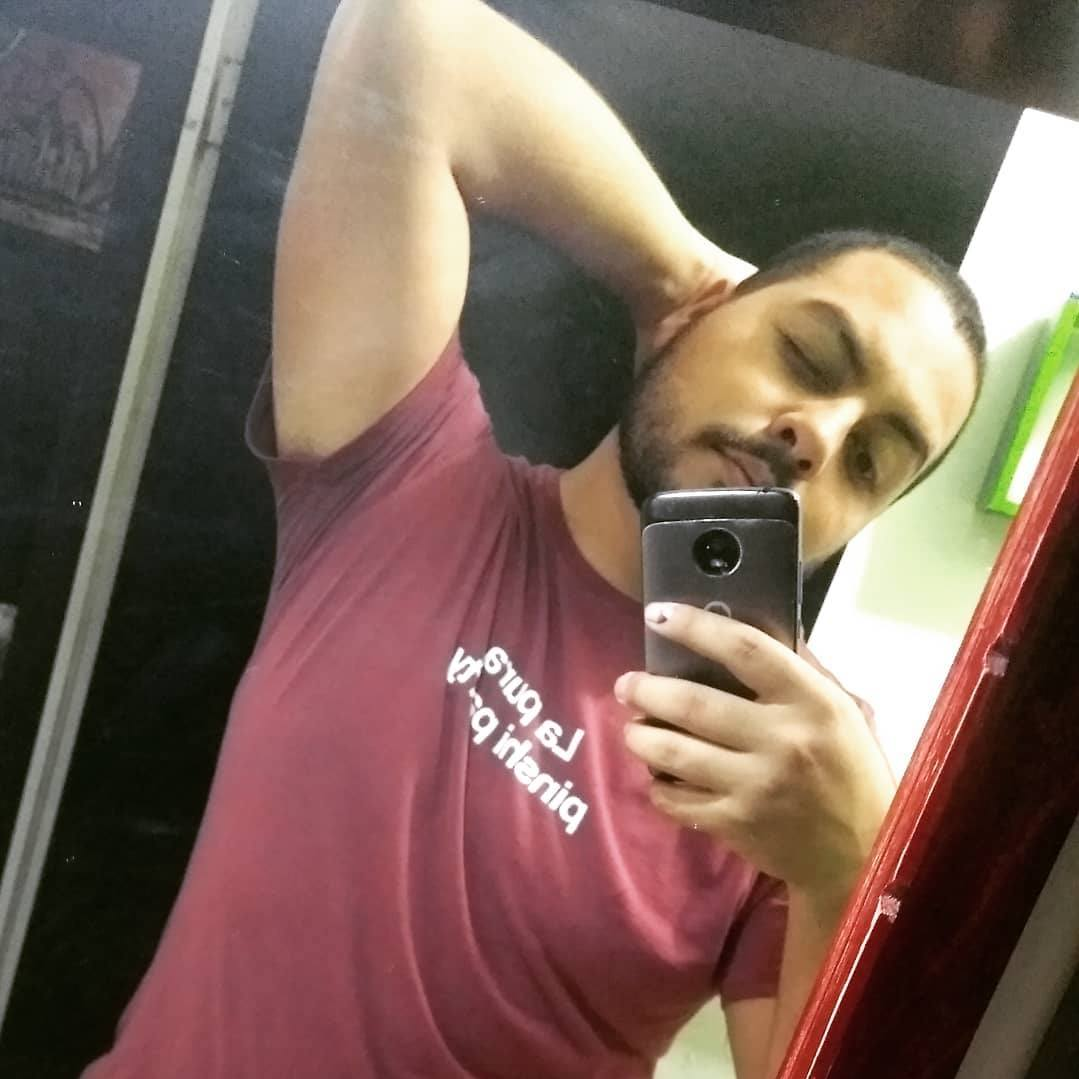Yoshi: (265, 70, 1029, 951)
